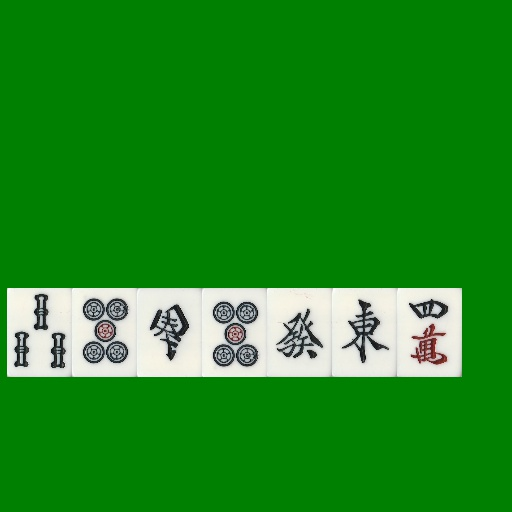3s: (7, 288, 72, 377)
4m: (397, 288, 462, 377)
5p: (72, 288, 137, 377), (202, 288, 267, 377)
east: (332, 288, 397, 377)
hatsu: (267, 288, 332, 377)
south: (137, 288, 202, 377)
